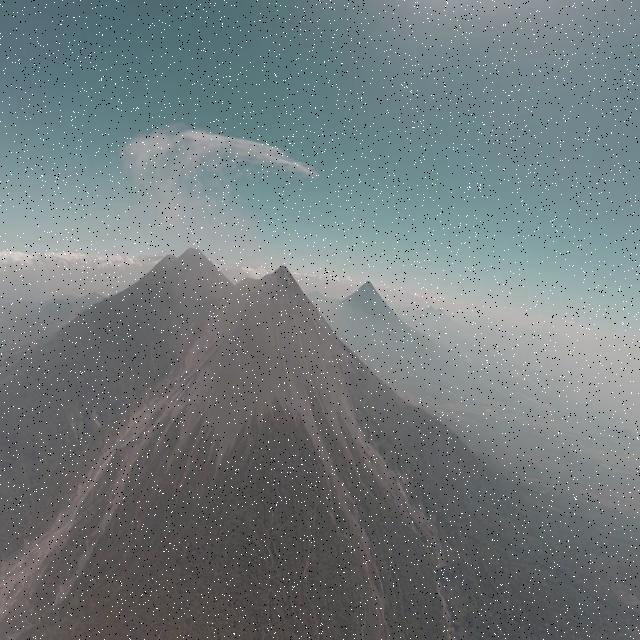Summit: (262, 262, 300, 292)
